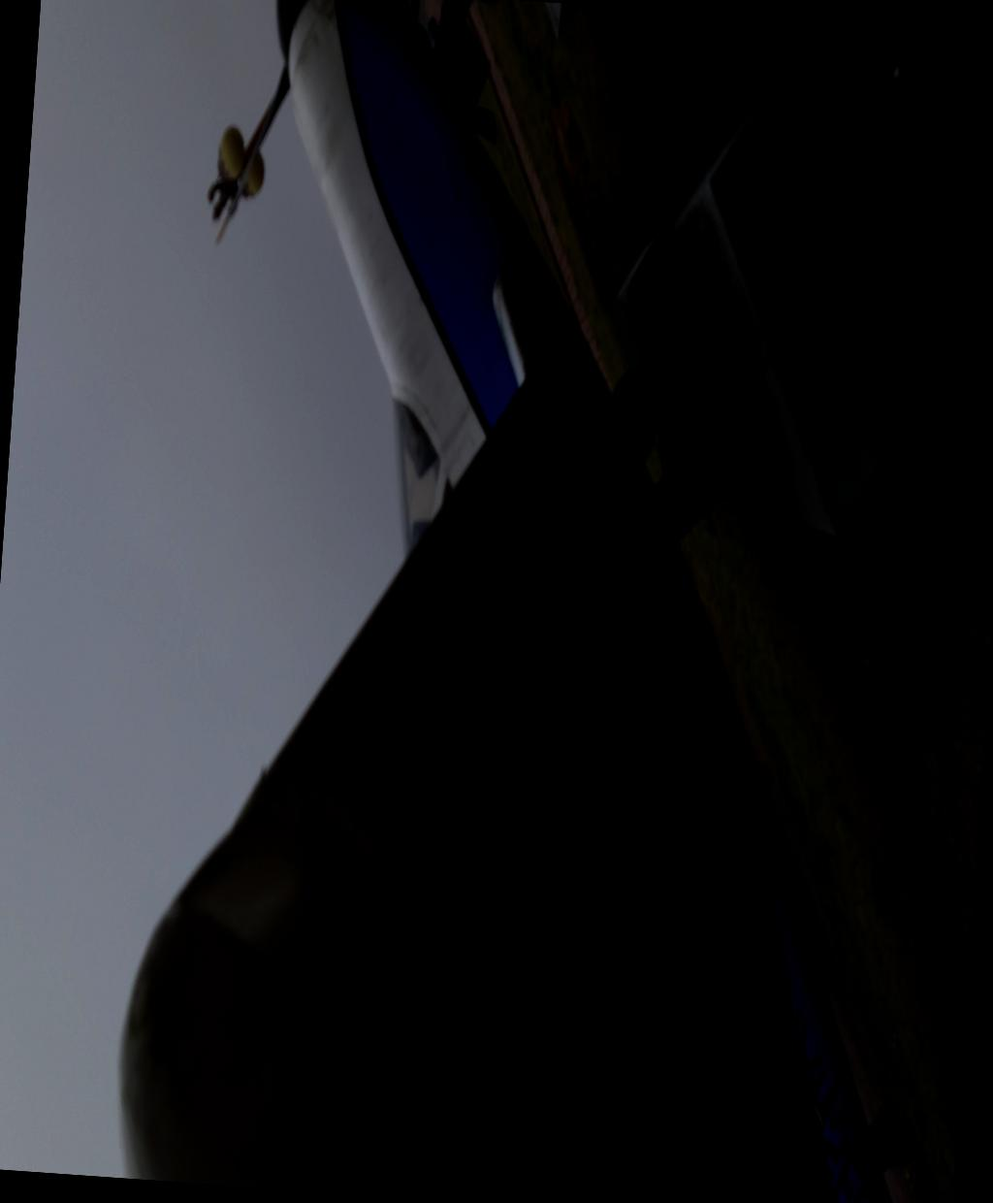dent: (330, 373, 430, 608)
